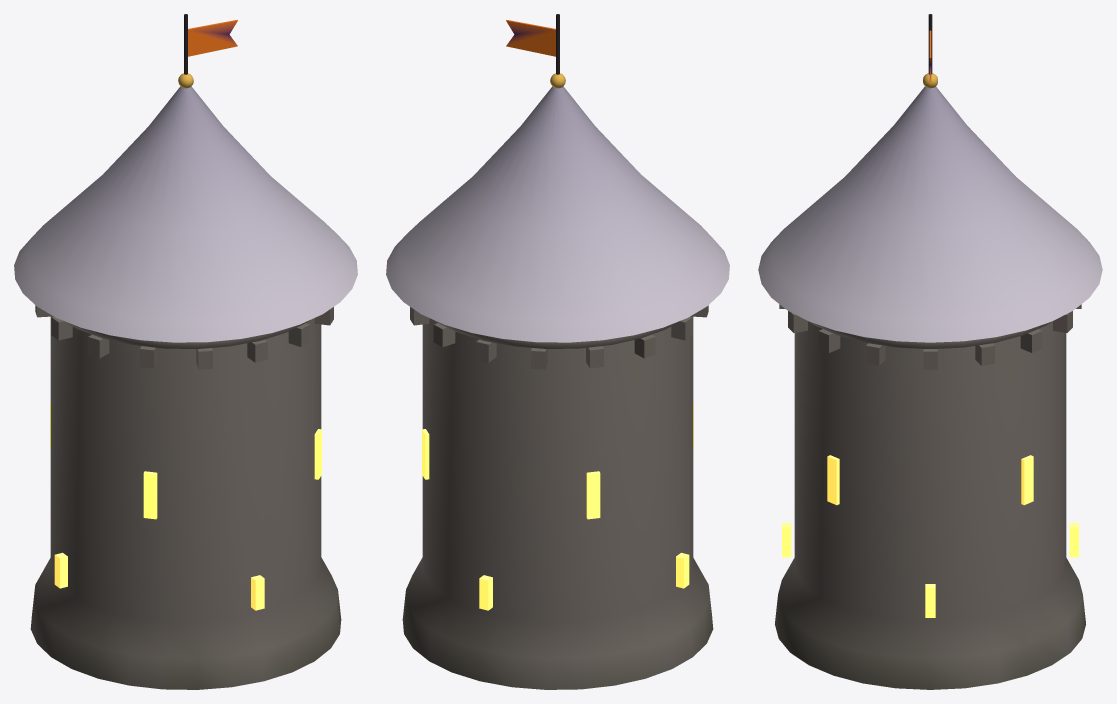
The picture shows the model from 3 angles, left to right: view 1: azimuth 30°, elevation 25°; view 2: azimuth 150°, elevation 25°; view 3: azimuth 270°, elevation 25°; orthographic projection.
Visible parts, largest first — view 1: Tower, Flag; view 2: Tower, Flag; view 3: Tower.
Boxes of the visible parts, box(x1,y1,x2,y2) form: Tower: box(14, 14, 357, 689); Flag: box(188, 20, 237, 56); Tower: box(386, 14, 729, 689); Flag: box(506, 20, 555, 56); Tower: box(758, 14, 1102, 689).
Bounding box in the file's own units: 5.2 × 10.15 × 5.2.
